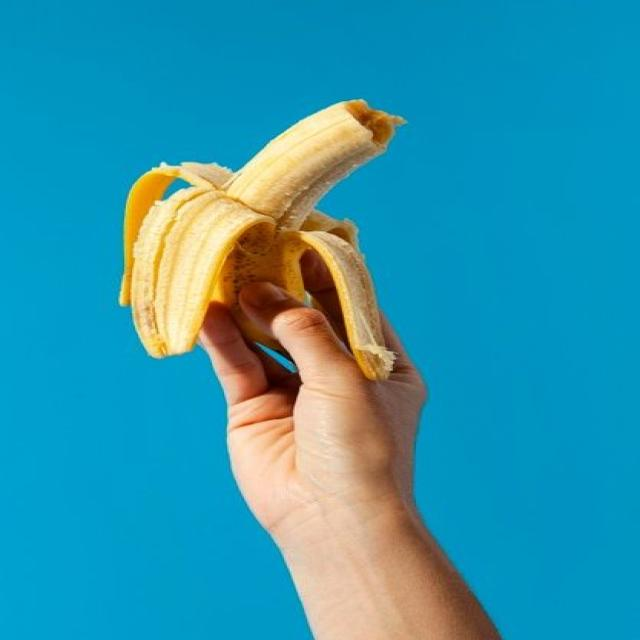banana: (120, 101, 403, 379)
